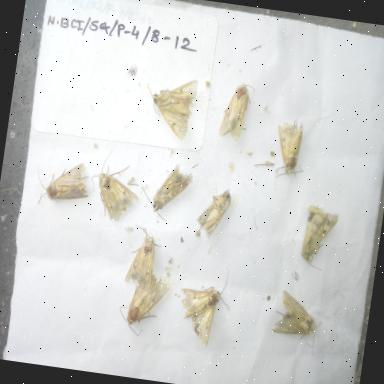abw: (170, 259, 236, 353), (82, 146, 146, 229), (137, 66, 202, 144), (113, 268, 172, 342), (266, 286, 330, 354), (136, 157, 196, 228), (30, 151, 96, 214), (293, 199, 344, 276), (266, 113, 314, 185), (213, 76, 260, 148), (118, 226, 166, 294), (188, 180, 237, 246)
